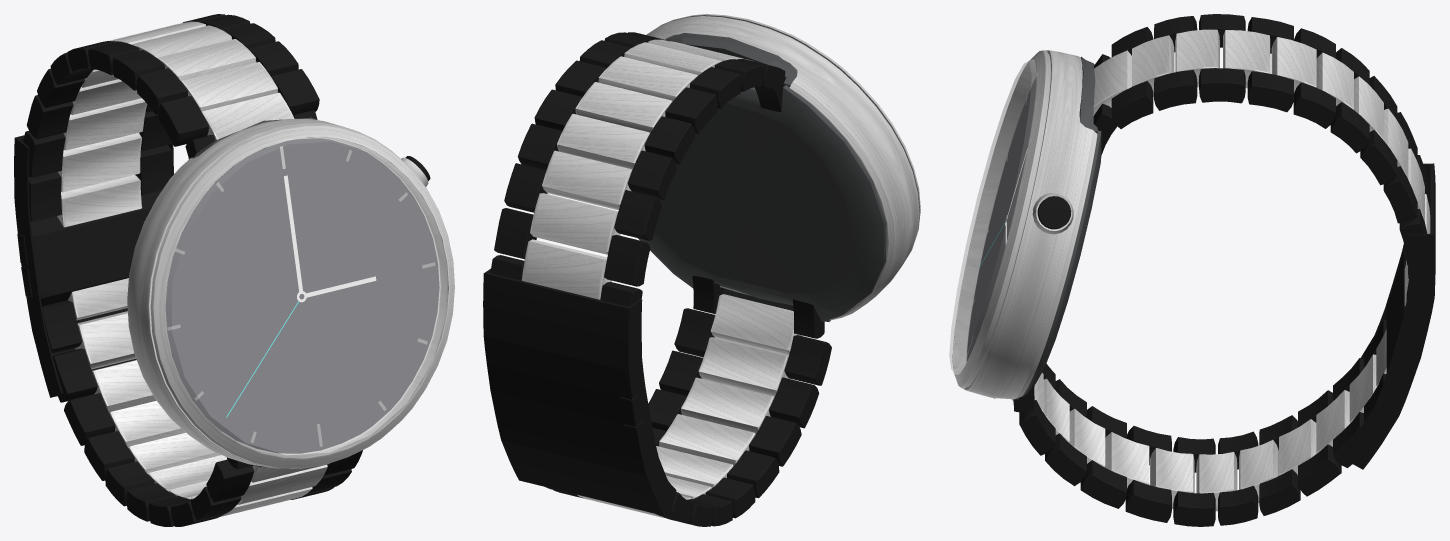
The model's file is watch-transformed.glb.
The picture shows the model from 3 angles, left to right: view 1: azimuth 30°, elevation 25°; view 2: azimuth 150°, elevation 25°; view 3: azimuth 270°, elevation 25°; orthographic projection.
Visible parts, largest first — view 1: watchGlass, WatchshellTop, FinalStrap1, FinalStrap2, watchShell, strapClip, hrHand1; view 2: FinalStrap1, watchBottom, strapClip, FinalStrap2, watchShell; view 3: FinalStrap2, FinalStrap1, watchShell, watchGlass, strapClip, WatchshellTop, watchBottom.
Boxes of the visible parts, x1,y1,x2,y2 form: watchGlass: [165, 136, 448, 459]; WatchshellTop: [165, 138, 439, 453]; FinalStrap1: [23, 14, 319, 227]; FinalStrap2: [42, 278, 362, 526]; watchShell: [127, 119, 454, 468]; strapClip: [14, 135, 173, 397]; hrHand1: [284, 175, 302, 291]; FinalStrap1: [491, 32, 785, 306]; watchBottom: [638, 33, 886, 322]; strapClip: [483, 268, 675, 515]; FinalStrap2: [545, 275, 831, 526]; watchShell: [646, 14, 920, 319]; FinalStrap2: [1012, 319, 1386, 526]; FinalStrap1: [1093, 14, 1430, 306]; watchShell: [952, 50, 1097, 399]; watchGlass: [949, 60, 1037, 374]; strapClip: [1340, 163, 1435, 469]; WatchshellTop: [967, 77, 1036, 360]; watchBottom: [994, 56, 1101, 399].
Size of the model in its own units: 10.65 by 14.89 by 14.75.
Materials: 6 (5 with a texture image).
